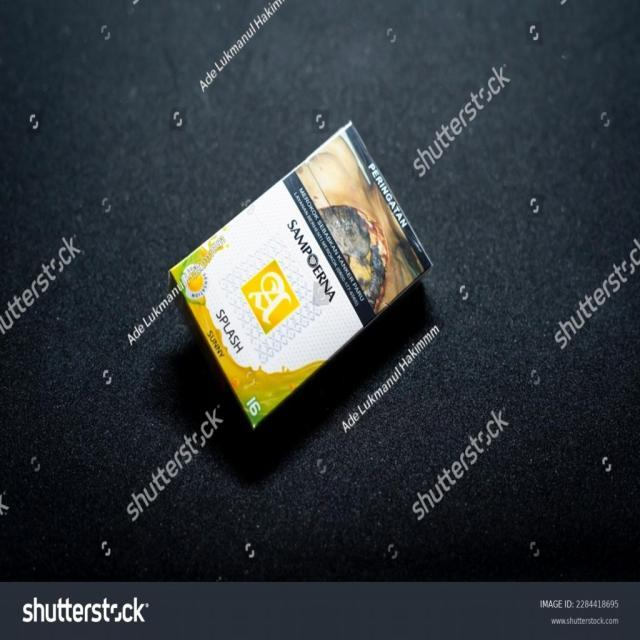smoking: (141, 120, 464, 430)
